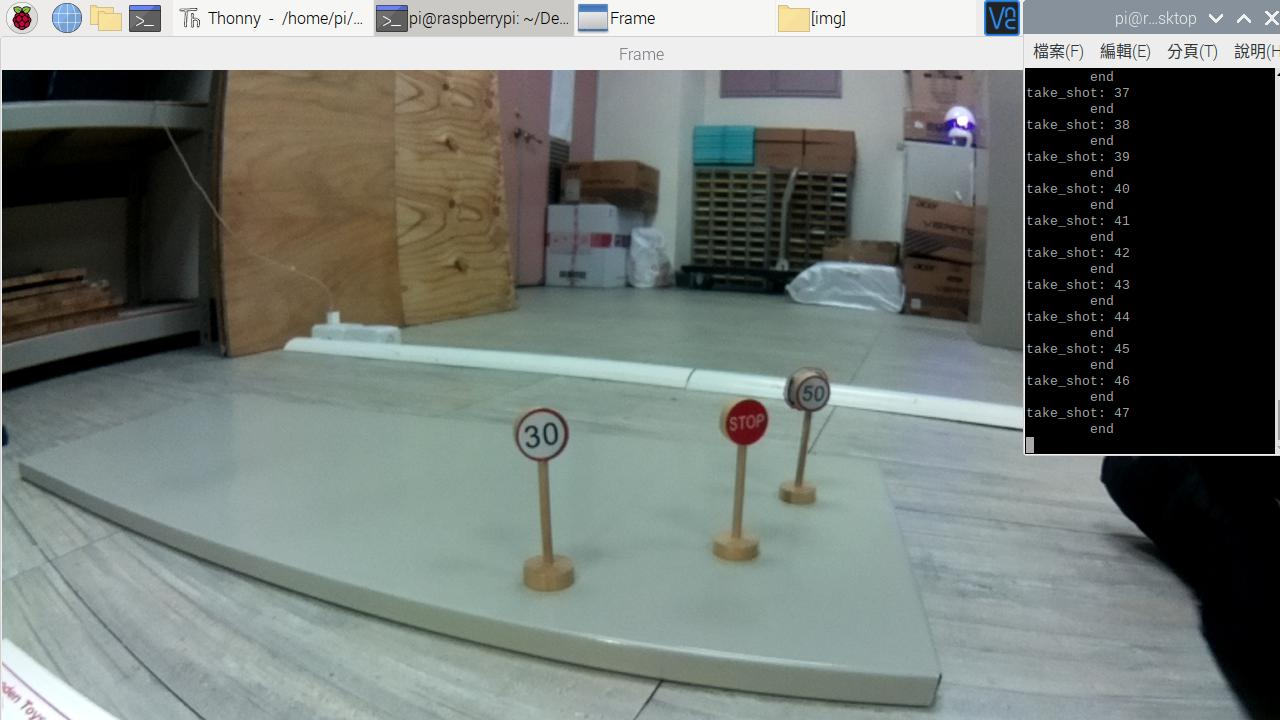Speed30: (516, 408, 574, 461)
Speed50: (790, 375, 833, 417)
Stop: (720, 394, 771, 452)
